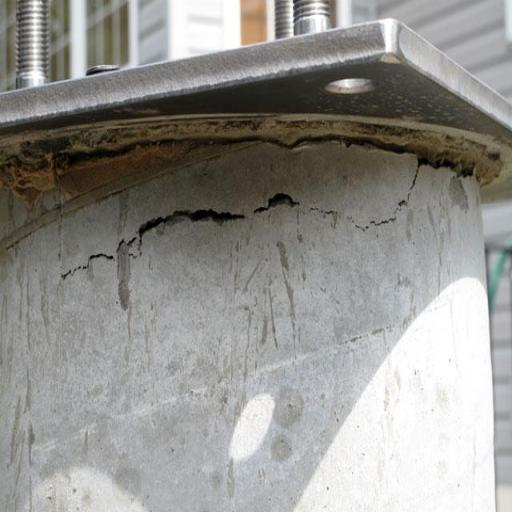spalling: (356, 165, 418, 230), (138, 209, 244, 243), (253, 193, 299, 213), (89, 253, 114, 260), (73, 266, 88, 275)
